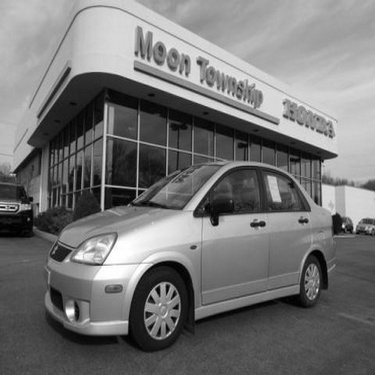car: (27, 139, 345, 352), (1, 160, 44, 244), (323, 205, 356, 242), (350, 209, 370, 244)
